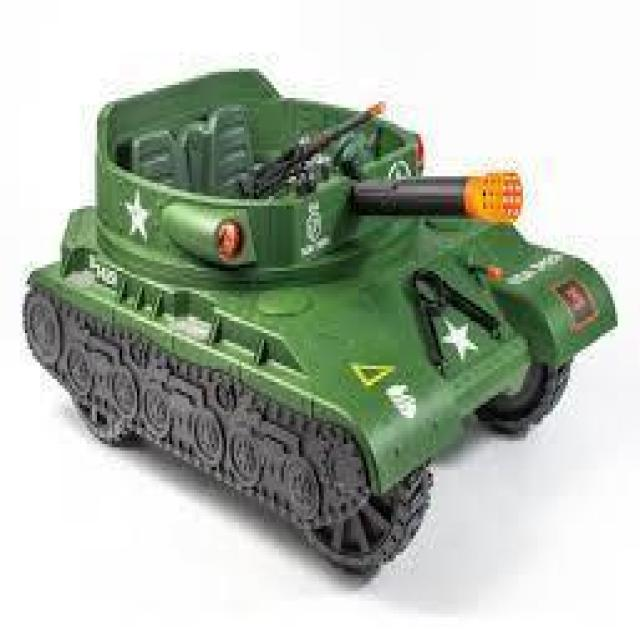Tanks: (26, 49, 574, 624)
